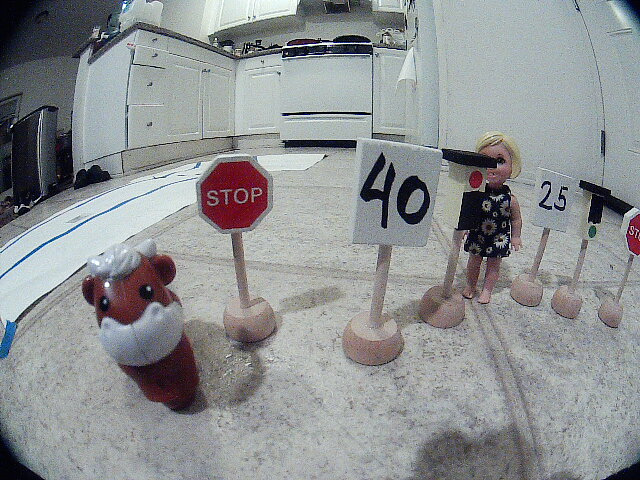Cow: (58, 237, 232, 436)
Green Traffic Light: (577, 171, 611, 248)
Red Traffic Light: (437, 142, 497, 254)
Speed Limit 25: (526, 164, 574, 241)
Speed Limit 40: (340, 128, 455, 270)
Stop Sign: (182, 147, 293, 244)
